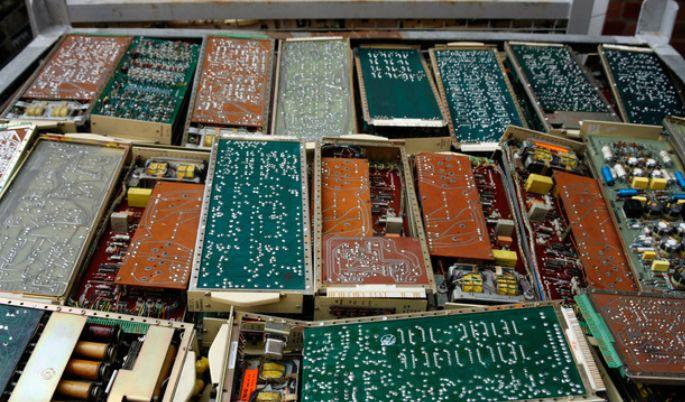electronic: (226, 299, 598, 401), (187, 133, 311, 311), (1, 130, 129, 300), (316, 136, 435, 312), (2, 301, 199, 401), (574, 129, 685, 297), (88, 34, 203, 145), (271, 36, 355, 143), (352, 45, 446, 136), (599, 45, 684, 129), (0, 300, 48, 402), (472, 160, 516, 244), (447, 262, 531, 305), (603, 141, 676, 190), (0, 121, 38, 215), (6, 97, 91, 129), (540, 241, 585, 299), (583, 61, 619, 118), (519, 139, 577, 174), (127, 187, 152, 207)
